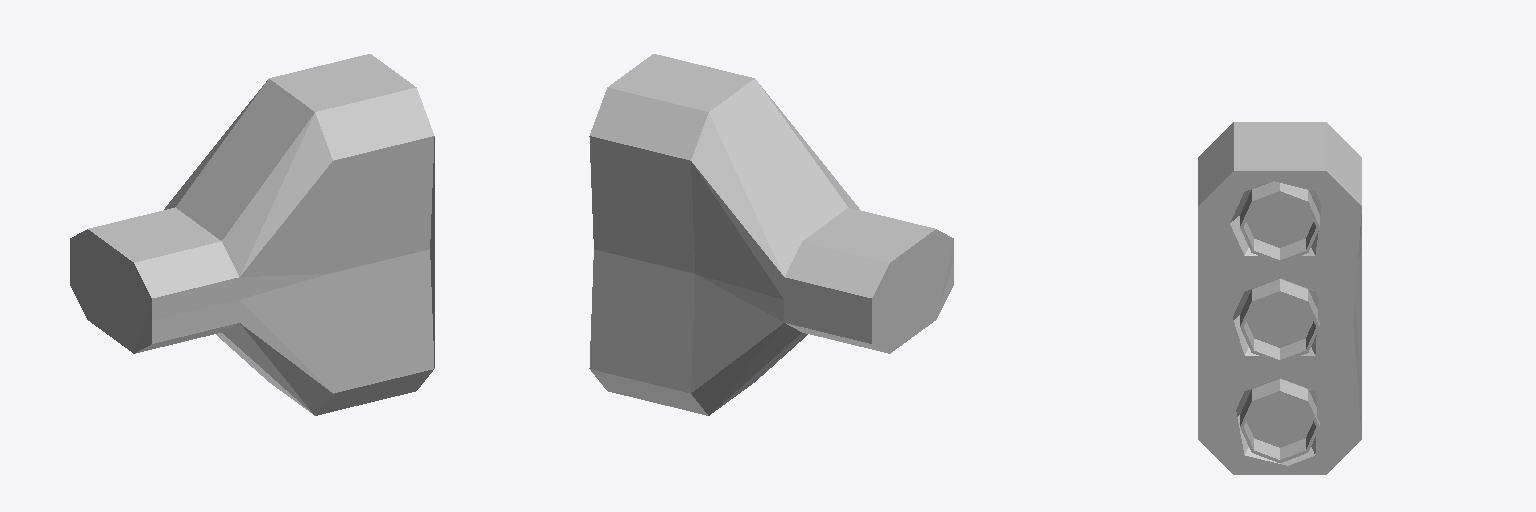
Rendered from Medium_Engine.obj.
3 renders of one model, left to right at view 1: azimuth 30°, elevation 25°; view 2: azimuth 150°, elevation 25°; view 3: azimuth 270°, elevation 25°, orthographic.
Parts seen in each view (by area): view 1: Cube; view 2: Cube; view 3: Cube.
Part boxes in pixels (x1,y1,x2,y2): Cube: (70,54,434,415); Cube: (589,54,953,415); Cube: (1198,122,1361,474).
Bounding box in the file's own units: 2 × 2 × 0.9787.